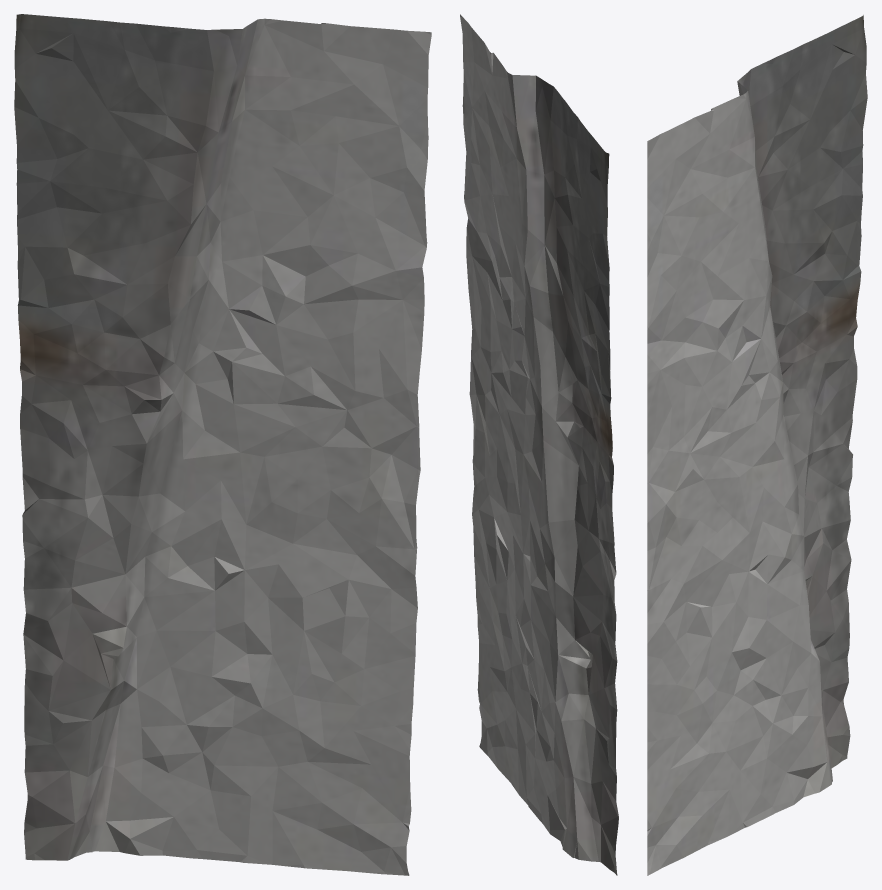
The picture shows the model from 3 angles, left to right: view 1: azimuth 30°, elevation 25°; view 2: azimuth 150°, elevation 25°; view 3: azimuth 270°, elevation 25°; orthographic projection. The views are drawn at different scales.
Size of the model in its own units: 0.3068 by 0.8374 by 0.2247.
Materials: 1 (1 with a texture image).
